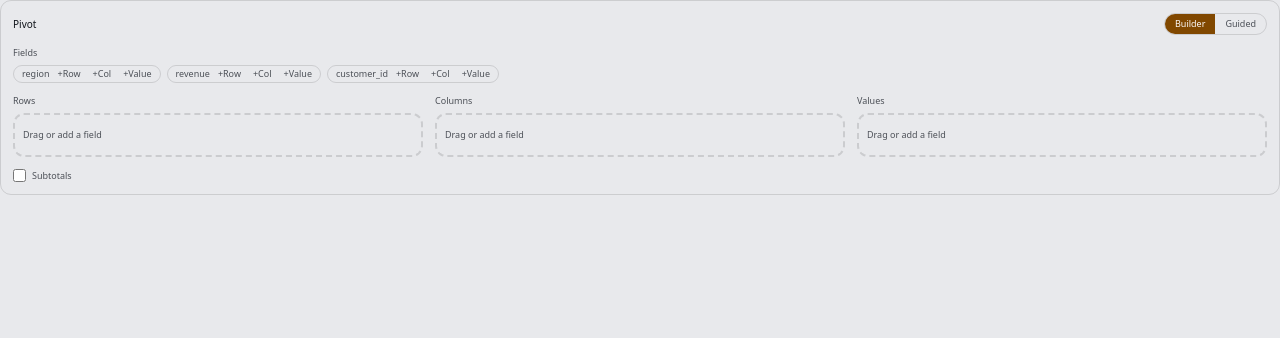
it: PivotBuilder › caps a high-cardinality rows field to the top 20 with a "Show all" affordance, removable
The image size is (1280, 338).
What coordinates should you click on to do the following:
click the button titled "Add customer_id to rows" next to "customer_id"
I would click on:
 (407, 74)
Its box is [392, 68, 423, 80].
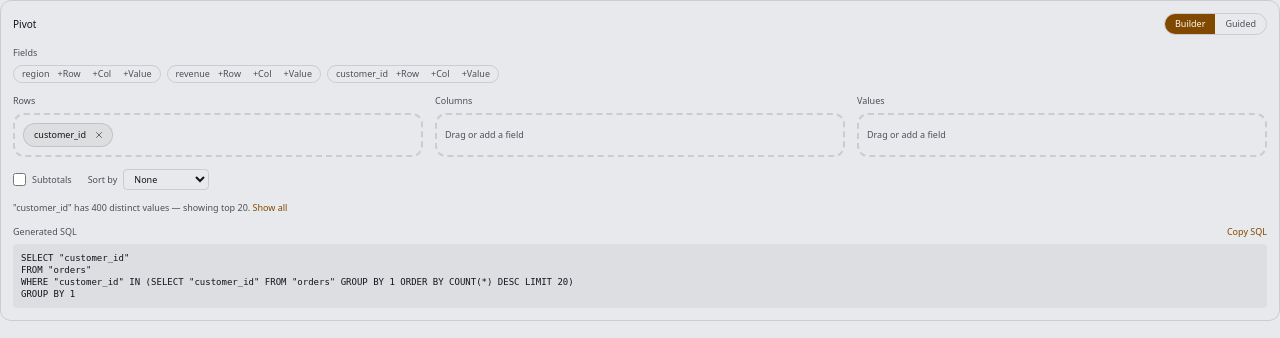
Expected: the text "400 distinct values" is shown, [13, 201, 288, 214]
Expected: the text "SELECT" shows "WHERE \"customer_id\" IN", [21, 253, 574, 299]
What coordinates should you click on to do the following:
click the button "Show all"
I would click on:
 (270, 208)
Its box is [253, 202, 288, 214].
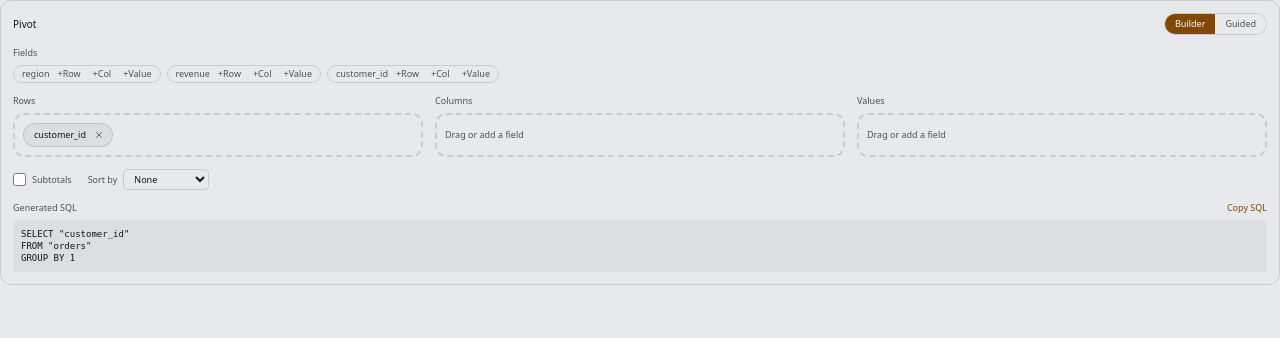
Expected: the text "distinct values" is gone
Expected: the text "SELECT" no longer shows "WHERE"
